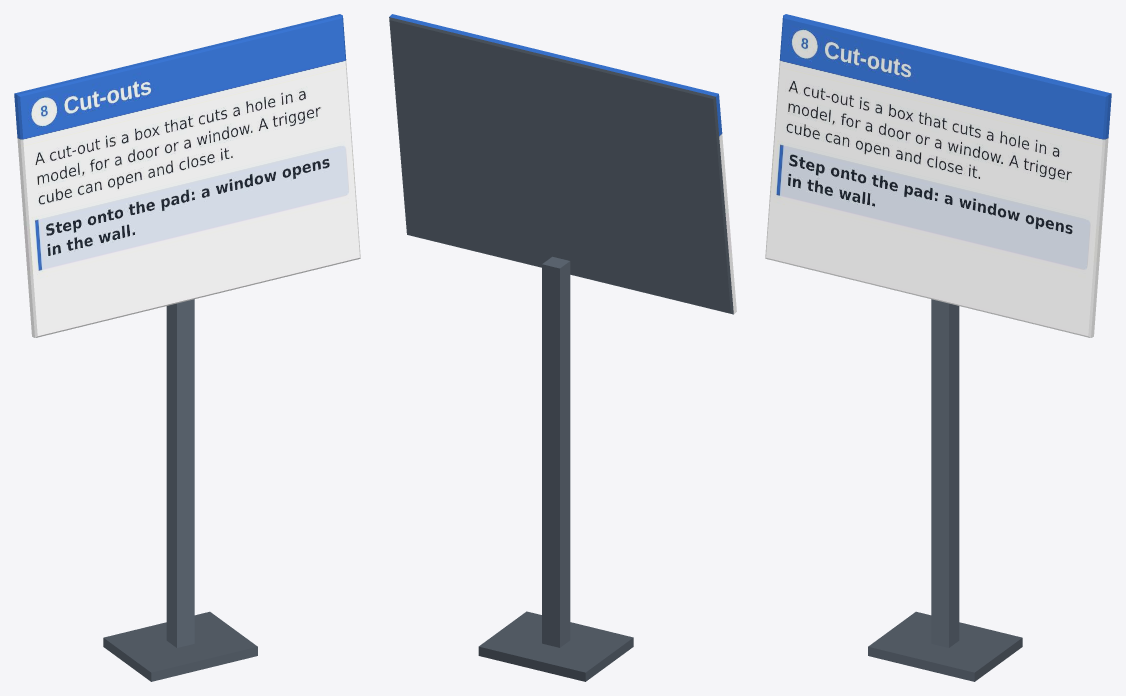
The model's file is 08-cut-outs.glb.
The picture shows the model from 3 angles, left to right: view 1: azimuth 30°, elevation 25°; view 2: azimuth 150°, elevation 25°; view 3: azimuth 330°, elevation 25°; orthographic projection.
Parts seen in each view (by area): view 1: board; view 2: board; view 3: board.
Boxes of the visible parts, <box> form: board: <box>14,14,360,681</box>; board: <box>389,14,736,681</box>; board: <box>765,14,1111,681</box>.
Size of the model in its own units: 1.1 by 1.92 by 0.28.
1 material, 1 textured.
